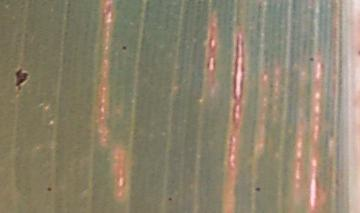tarspot: (15, 67, 30, 91), (307, 54, 315, 63), (253, 184, 261, 192), (119, 44, 128, 51), (46, 185, 53, 193), (167, 195, 173, 202)
